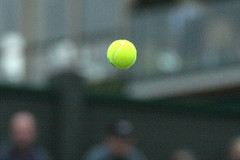tennis ball: (105, 39, 139, 70)
